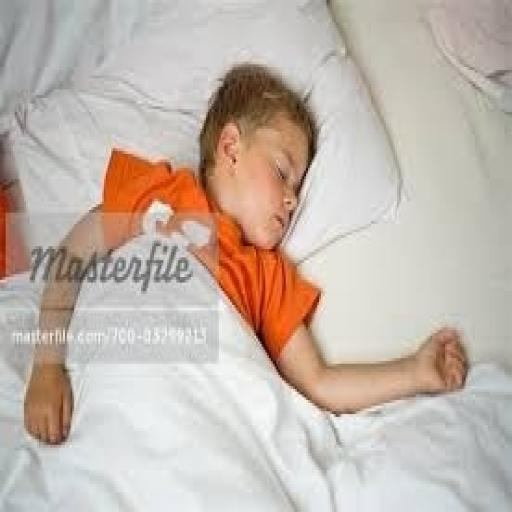sleeping: (19, 58, 471, 448)
